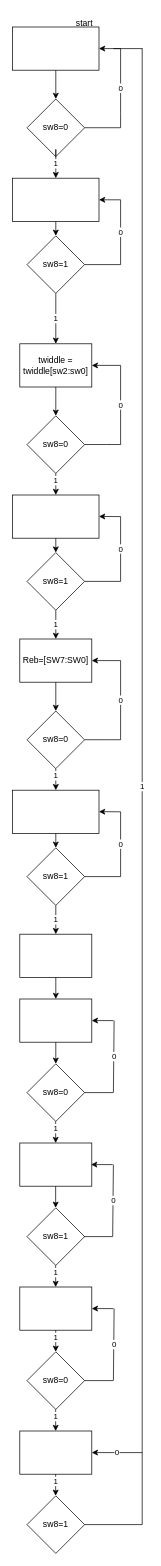
This 161x1566 diagram has some shape labels left out. The shapes that lost their labels are listed below. From the top down, each one's box as (x1, y1, x2, y2) in pixels, then its label:
(19, 933, 92, 977): Rea=[SW7:SW0]
(19, 998, 92, 1042): display rey
(19, 1142, 92, 1186): display imy
(19, 1286, 92, 1330): display rez
(19, 1430, 92, 1474): display imz
